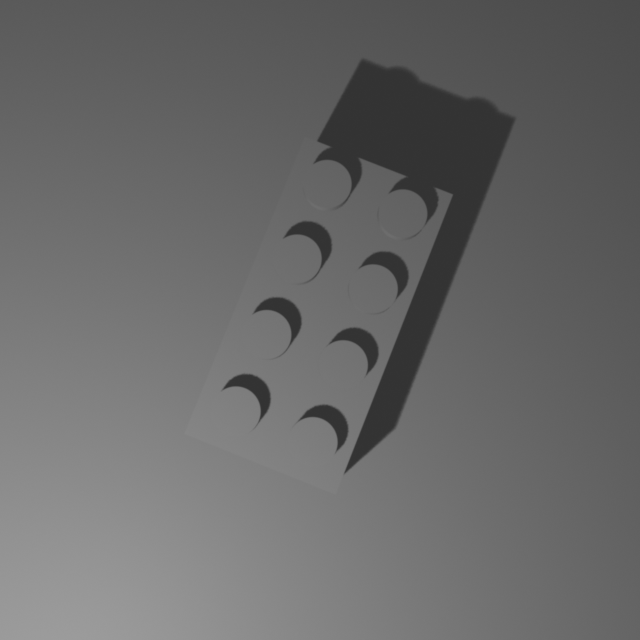lego_2x4: (182, 132, 455, 497)
